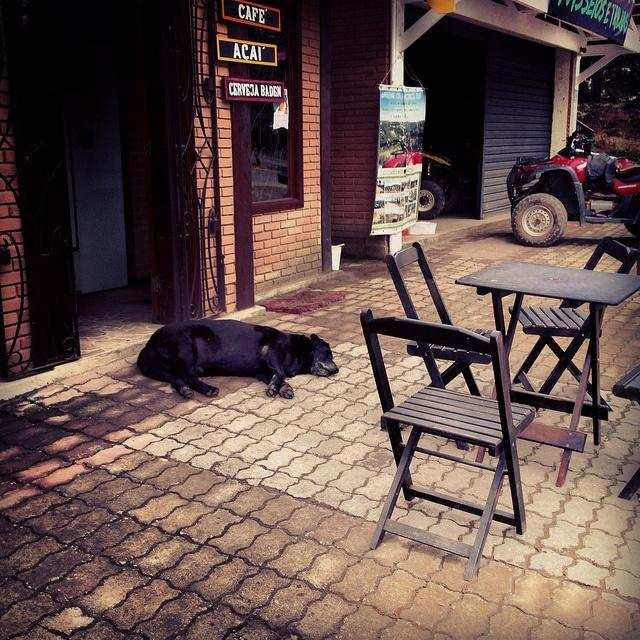Kursi: (358, 307, 535, 582)
